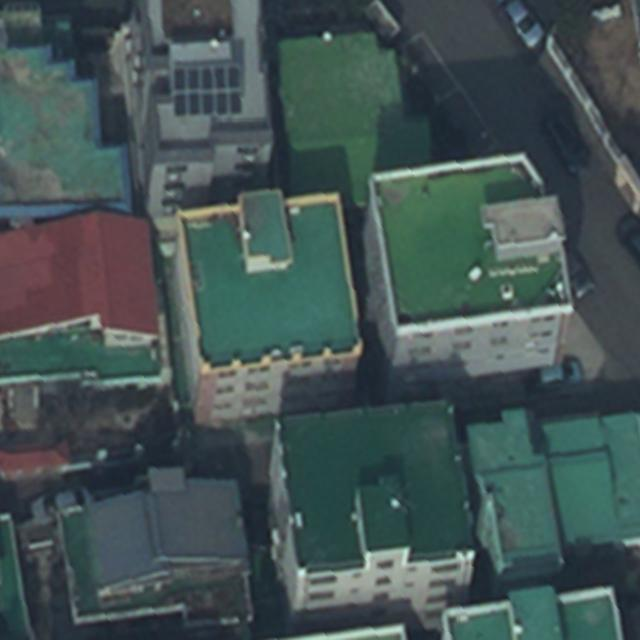solarpanel: (170, 62, 243, 118)
